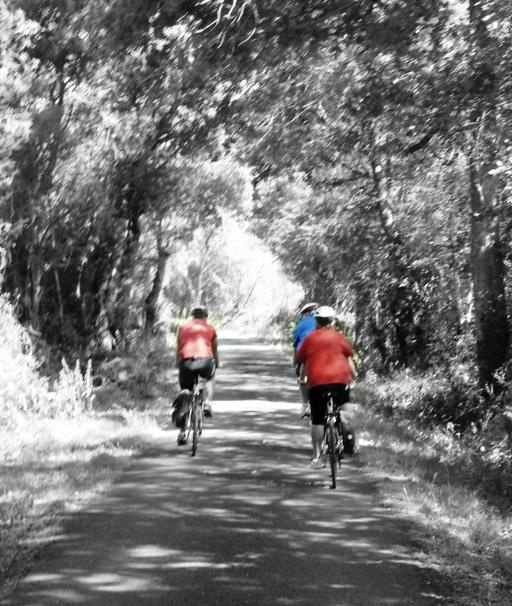non-vehicle: (177, 364, 223, 455), (322, 392, 344, 488)
